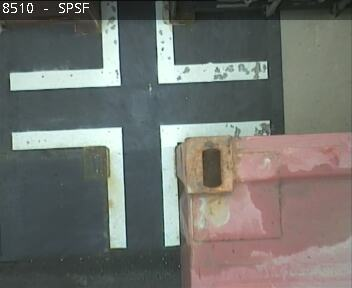groundmarker_1: (12, 120, 270, 246), (9, 1, 267, 91)
